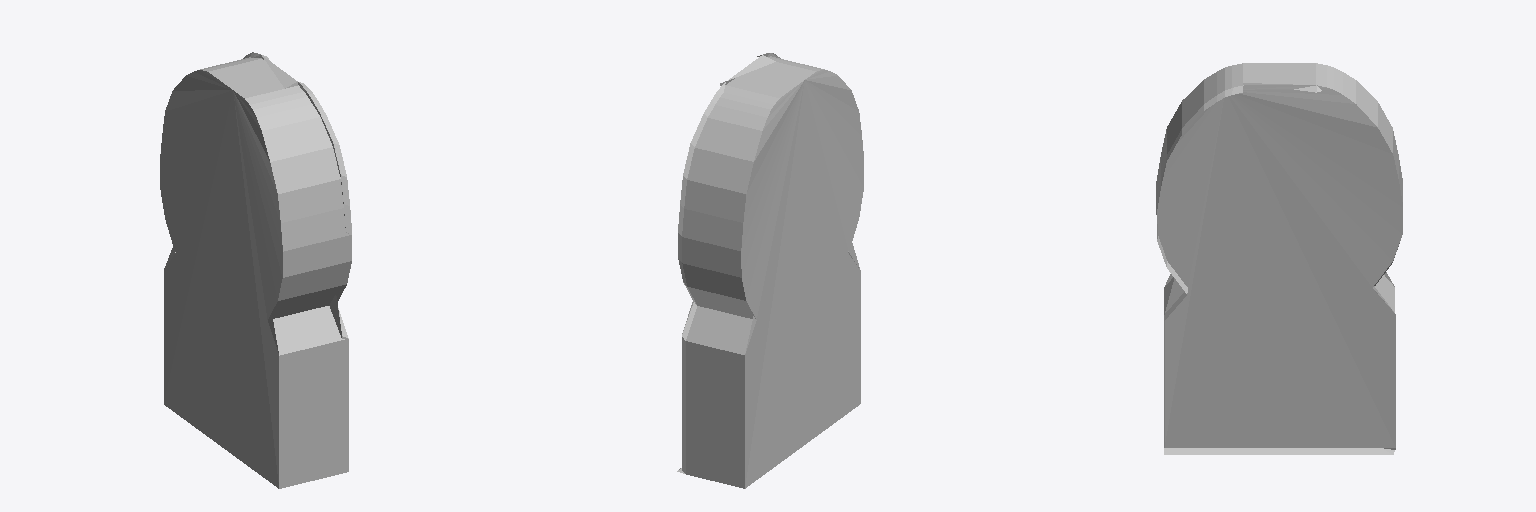
File: testobjektpink.obj
3 renders of one model, left to right at view 1: azimuth 30°, elevation 25°; view 2: azimuth 150°, elevation 25°; view 3: azimuth 270°, elevation 25°, orthographic.
Size of the model in its own units: 0.6176 by 3.1 by 1.9.